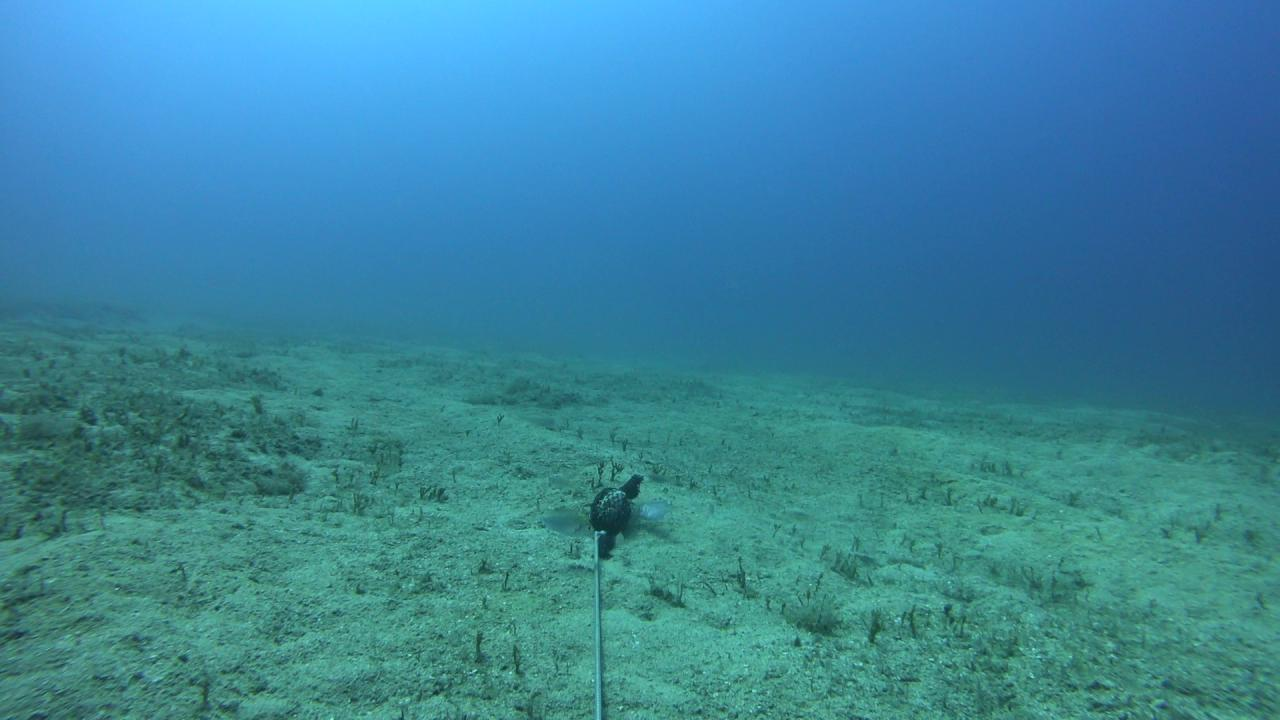pagellus: (532, 499, 593, 538), (643, 498, 681, 523)
